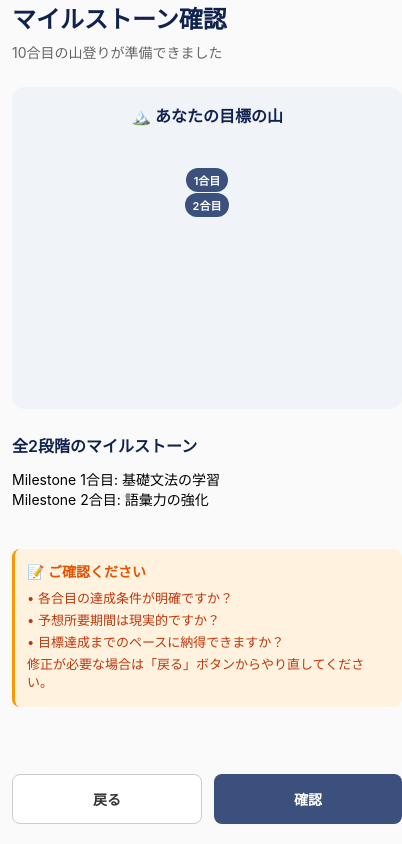
Scenario: MilestoneStep 統合テスト › マイルストーンの展開 › マイルストーンをクリックすると詳細が表示されること
Expected: the text "Details: 基本的な英文法を理解する" is not shown
# マイルストーンをクリック
Click the text "Milestone 1合目: 基礎文法の学習": (116, 480) [12,471,220,488]
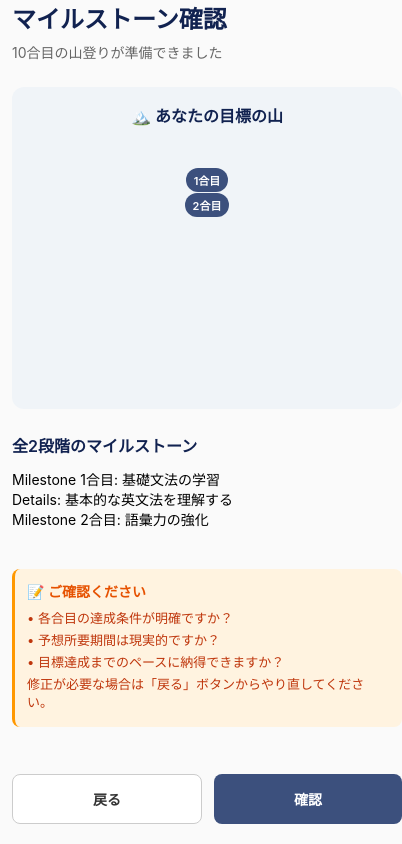
Now the text "Details: 基本的な英文法を理解する" is shown, box [12,491,233,508]
